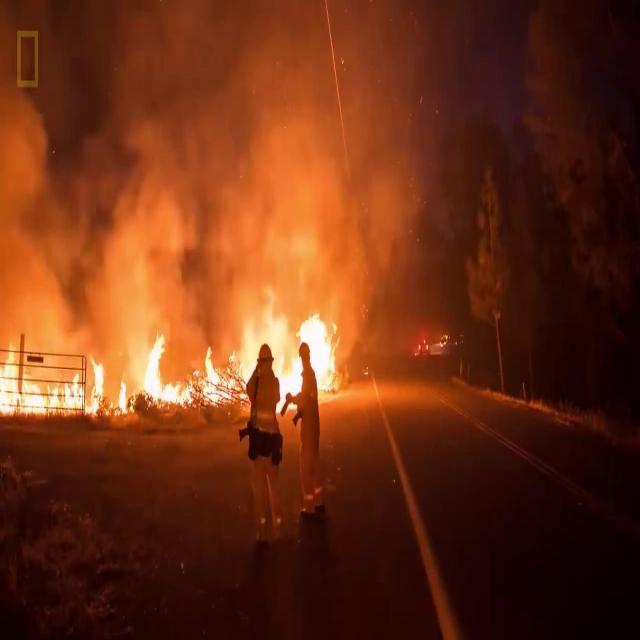Fire: (244, 281, 338, 410), (0, 342, 109, 417), (145, 335, 243, 408), (117, 382, 137, 414)
